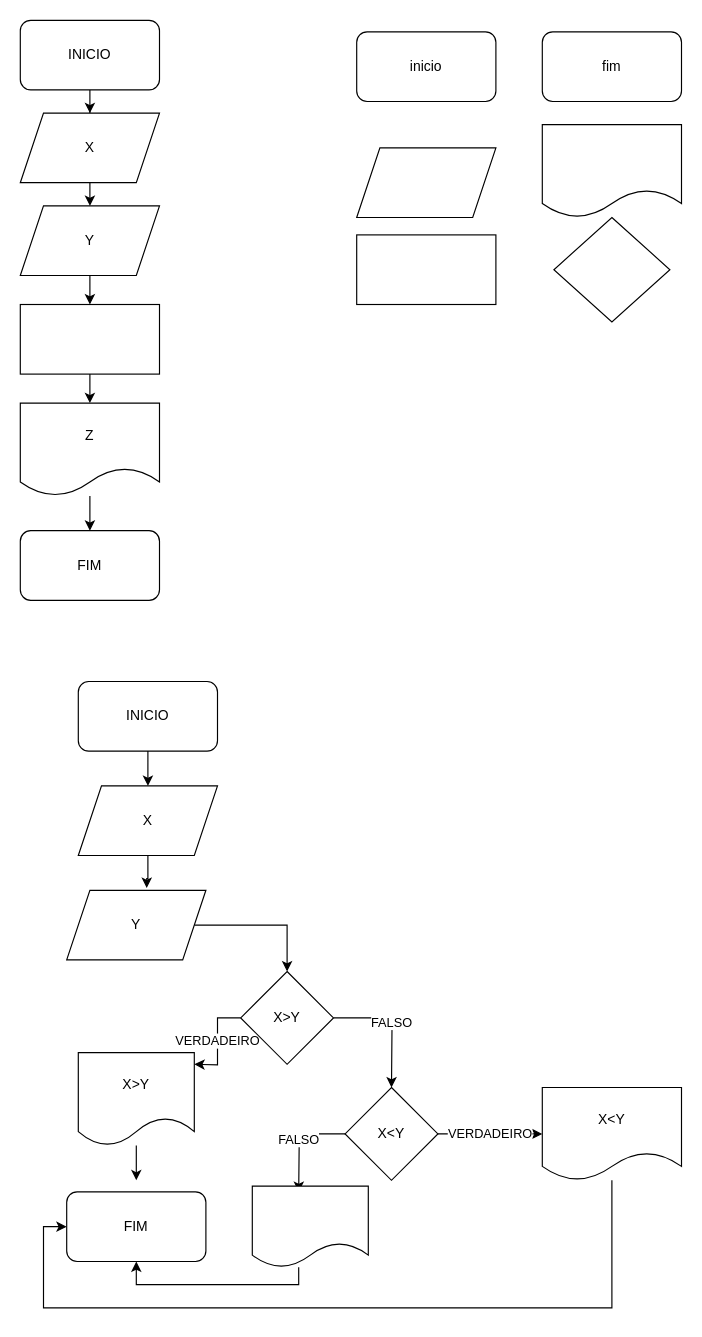
The diagram is 702 pixels wide and 1337 high, and some of its shapes have lost their labels. Each missing label, with the centre of its shape:
decisão: the point at 611,269
entrada: the point at 426,182
processamento: the point at 426,269
saida: the point at 611,170
X=Y: the point at 309,1226
Z=X+Y: the point at 89,338
